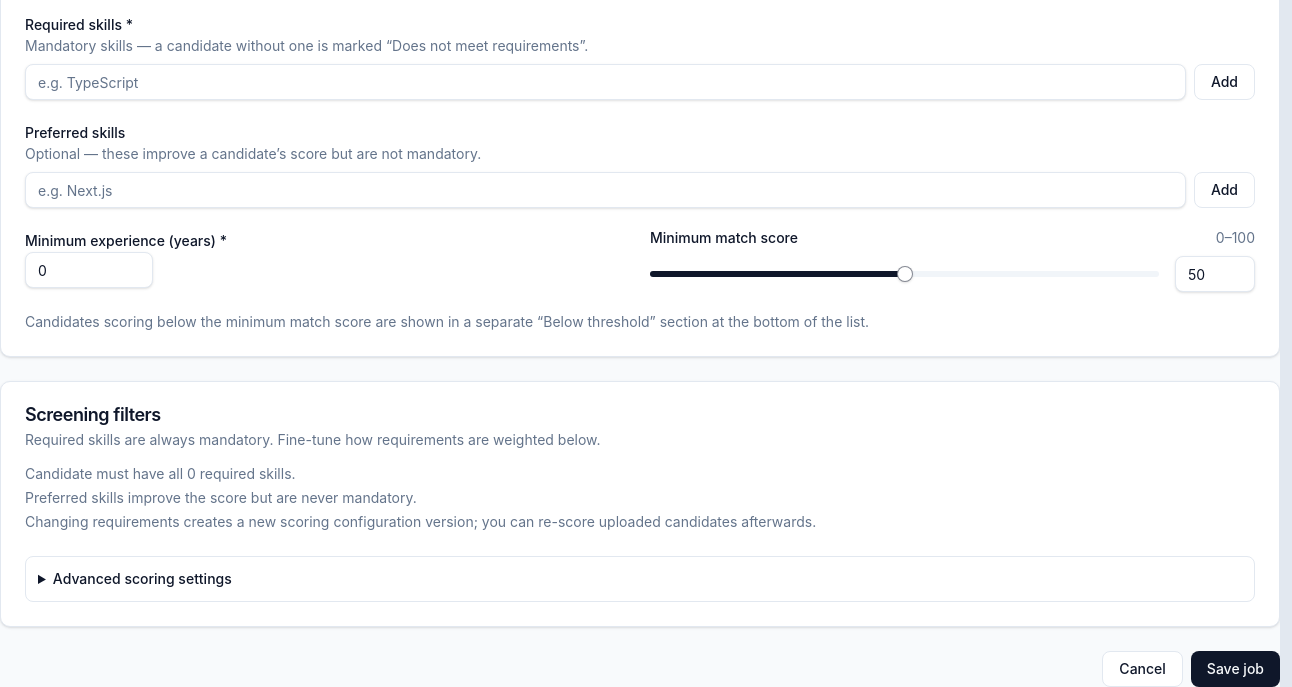
JobForm › shows validation errors, blocks saving and focuses the first invalid field
(page scrolled)
Click the button "Save job" at coordinates (1235, 669), box [1191,651,1280,686]
(page scrolled)
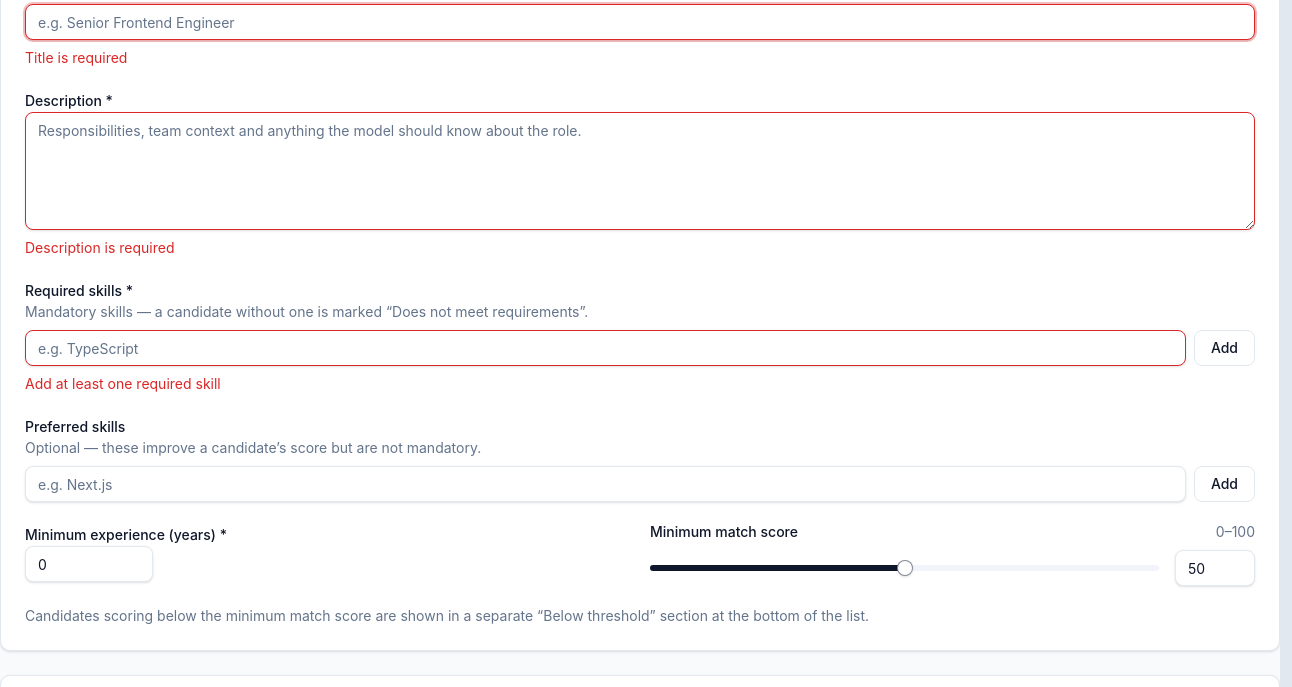
Result: the text "Title is required" is shown at [25,49,127,66]
Result: the text "Description is required" is shown at [25,239,174,256]
Result: the text "Add at least one required skill" is shown at [25,375,221,392]
